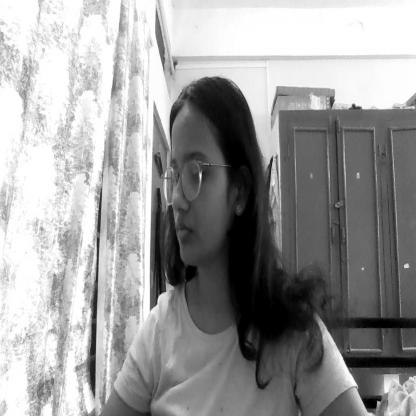Distracted: (171, 99, 247, 266)
